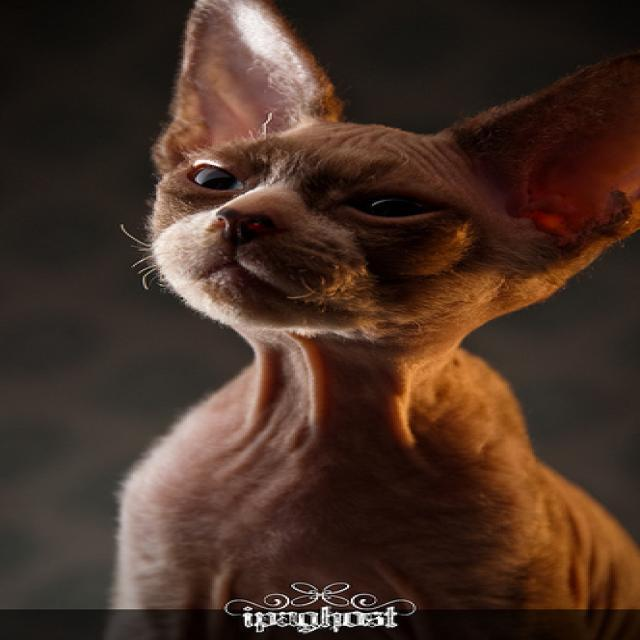Sphynx: (147, 0, 640, 355)
